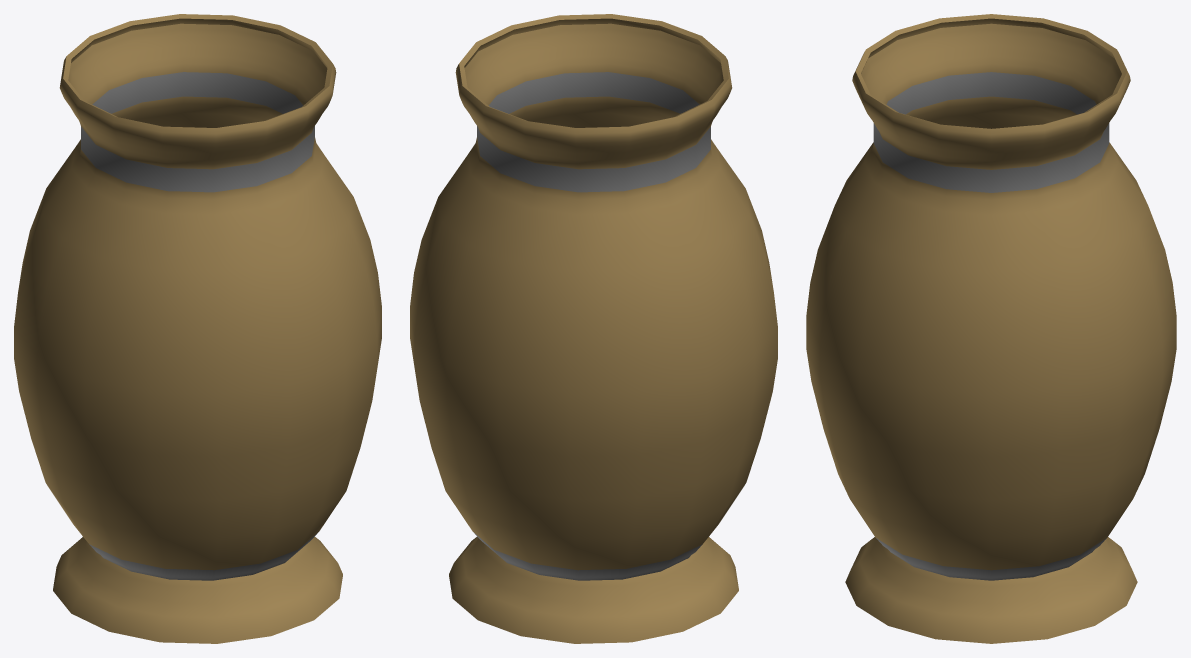
The model's file is VaseV1.0.fbx.
The picture shows the model from 3 angles, left to right: view 1: azimuth 30°, elevation 25°; view 2: azimuth 150°, elevation 25°; view 3: azimuth 270°, elevation 25°; orthographic projection.
Parts seen in each view (by area): view 1: Vase2.001; view 2: Vase2.001; view 3: Vase2.001.
Boxes of the visible parts, left/top/right/bottom form: Vase2.001: left=14, top=14, right=381, bottom=643; Vase2.001: left=410, top=14, right=777, bottom=643; Vase2.001: left=806, top=14, right=1176, bottom=643.
Bounding box in the file's own units: 253 × 385 × 253.
